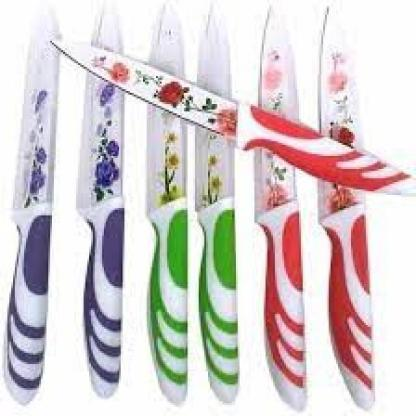Knife: (45, 21, 405, 207)
